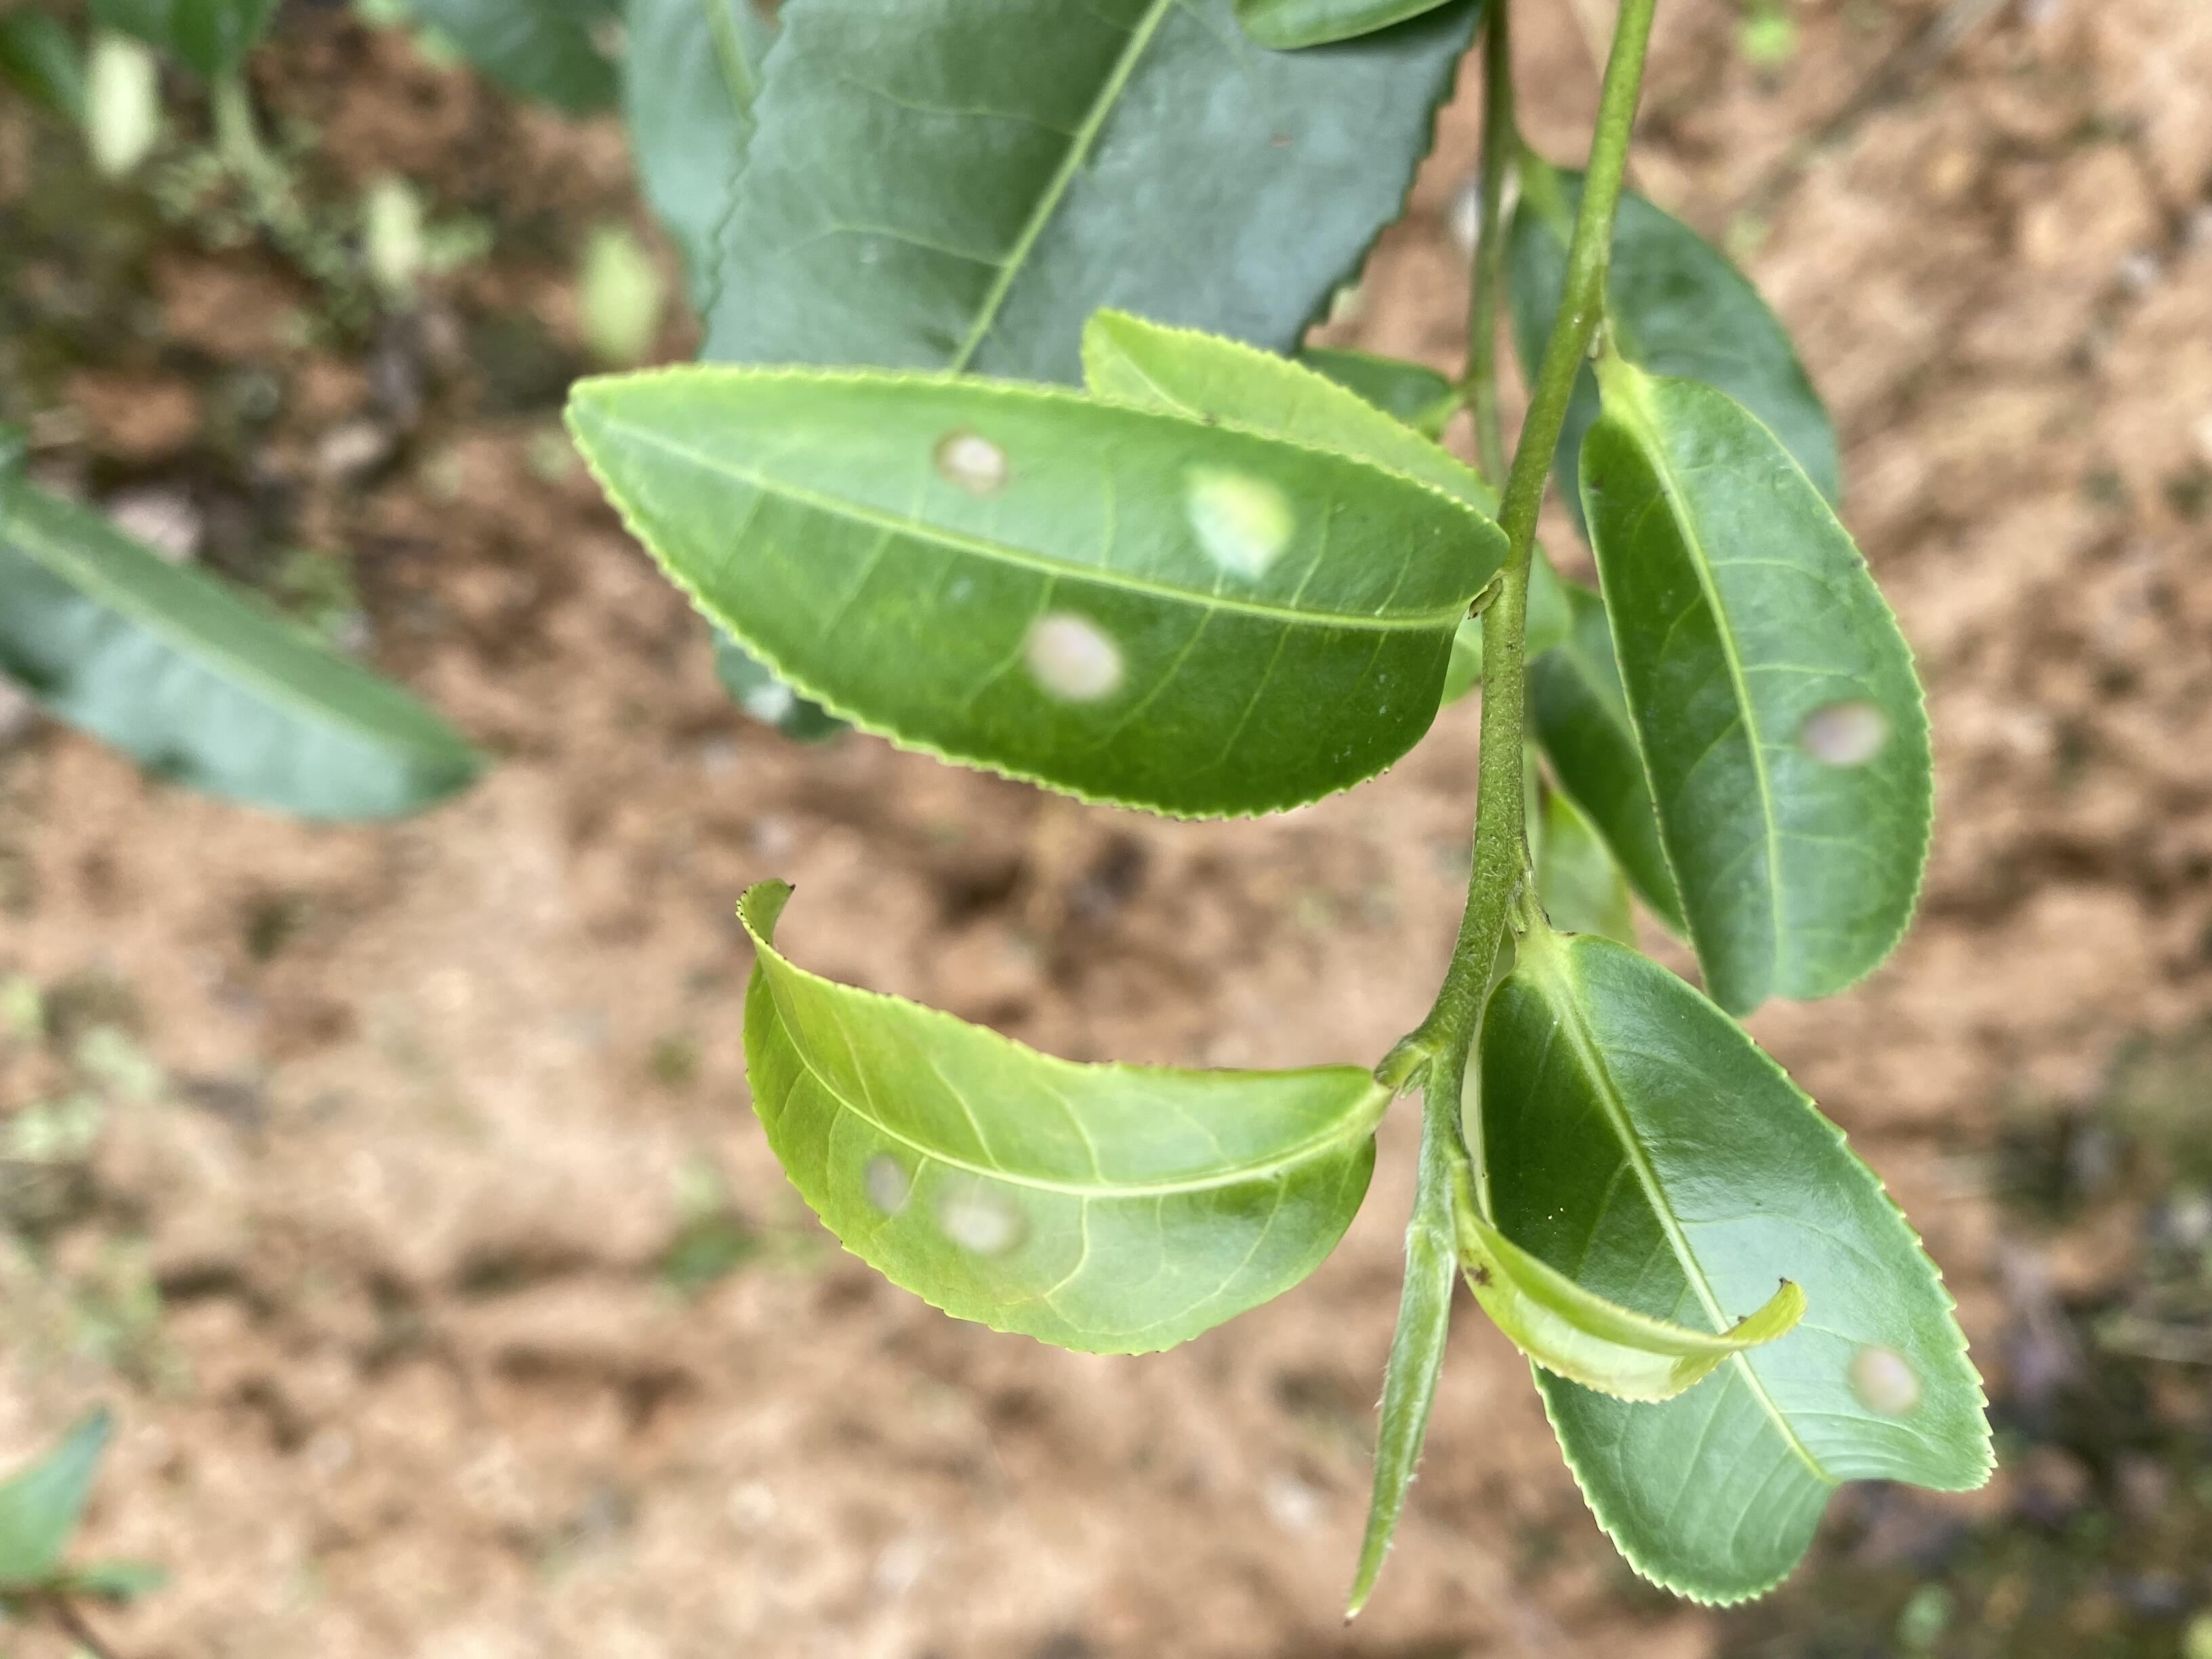chabing_high: (559, 366, 1514, 821), (733, 882, 1378, 1354)
chabing_low: (1480, 932, 1998, 1607), (1580, 382, 1933, 1021)
tanju_low: (1456, 1215, 1808, 1405)
